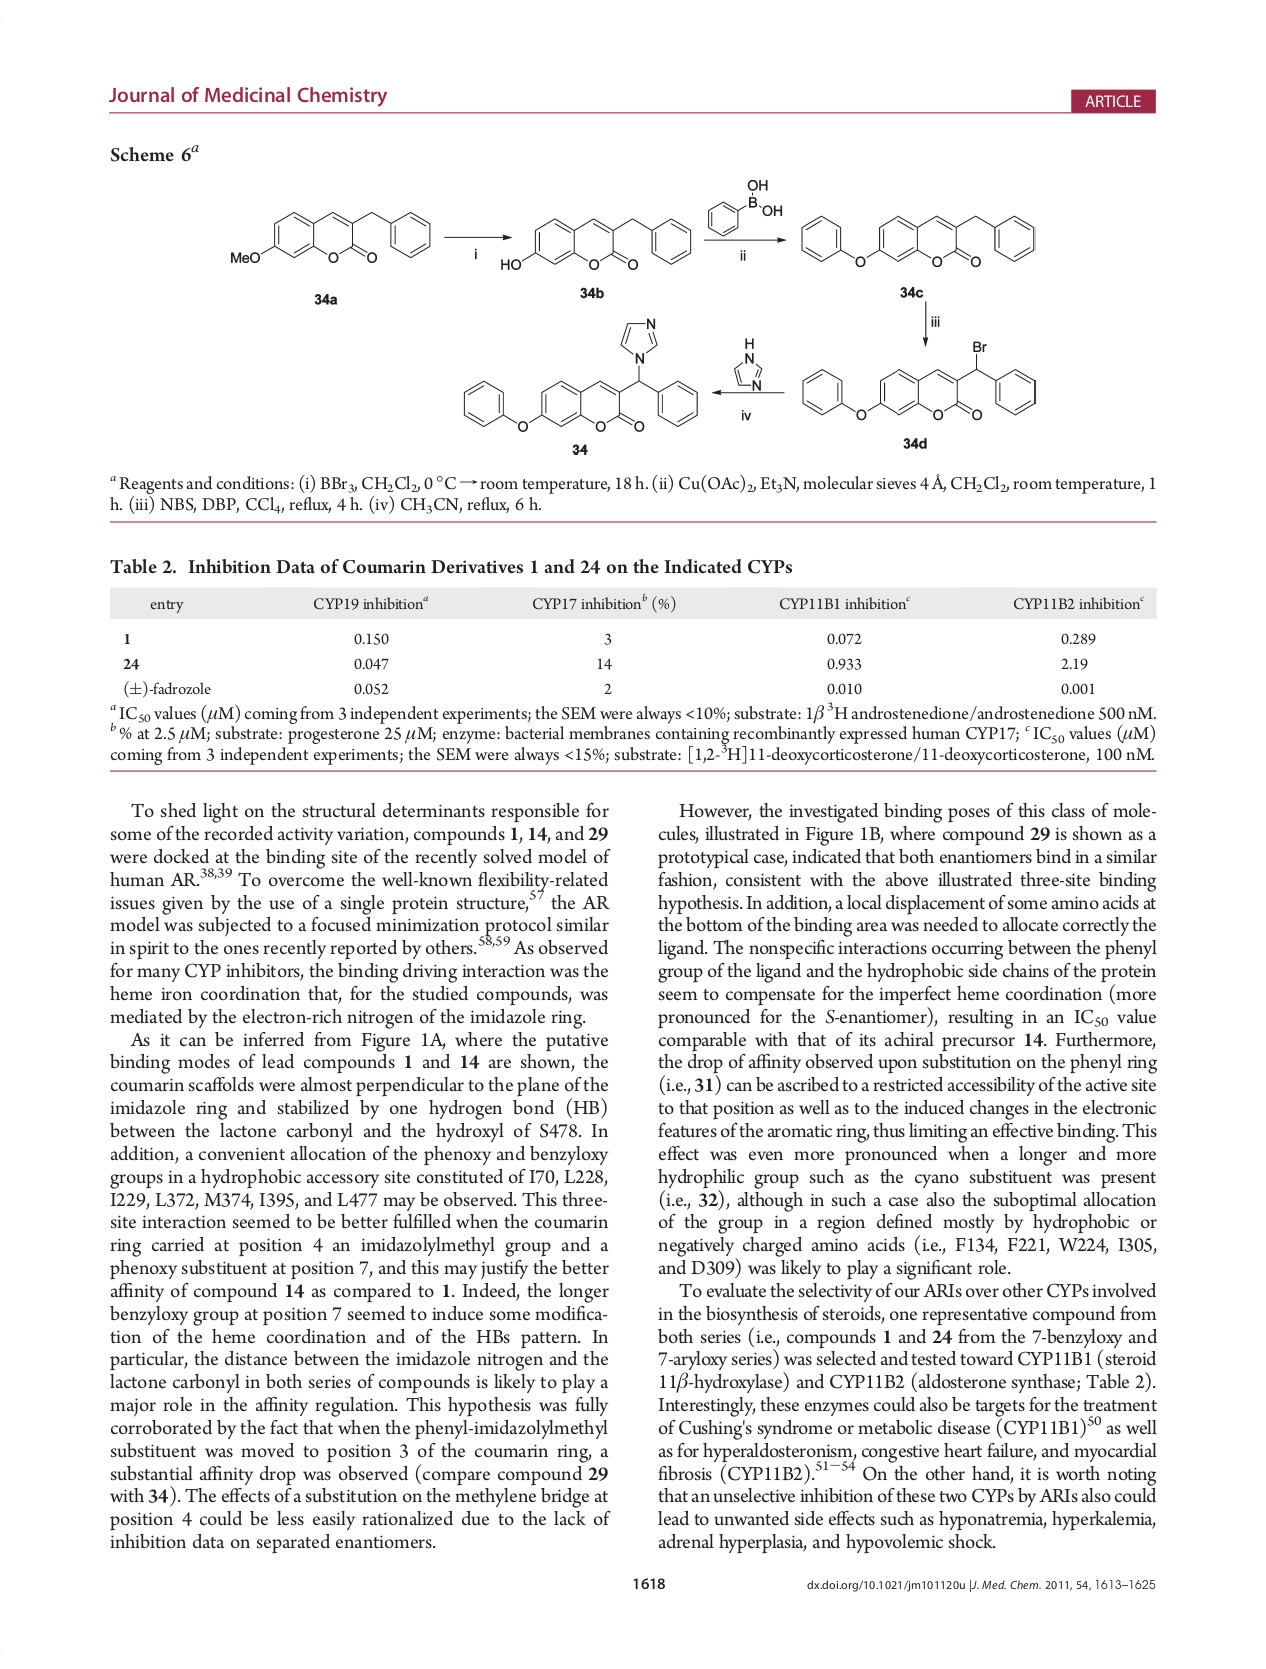exist_molecular: (460, 317, 702, 435), (799, 340, 1040, 426), (797, 206, 1043, 274), (225, 198, 442, 266), (497, 214, 699, 274), (705, 172, 785, 235), (726, 335, 769, 390)
